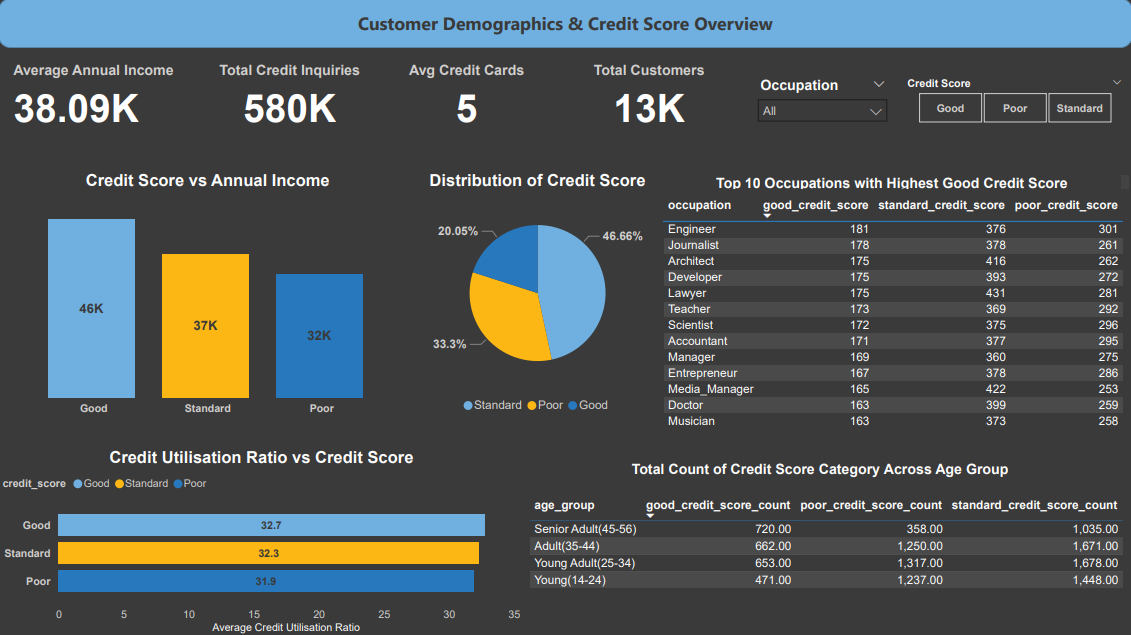

The page's visual inventory and layout, read from the dashboard file:
{"tool":"powerbi","page":{"name":"Customer Demographics & Credit Score Overview","canvas":[1280,720],"ordinal":0},"visuals":[{"type":"barChart","title":"Credit Utilisation Ratio vs Credit Score","fields":{"Category":["public credit_score_vs_utilisation.credit_score"],"Y":["Avg(public credit_score_vs_utilisation.avg_credit_utilization_ratio)"],"Series":["public credit_score_vs_utilisation.credit_score"]},"box":[0,507.2,594.4,213.6],"z":0},{"type":"shape","box":[0,0,1279.8,56.4],"z":1000},{"type":"columnChart","title":"Credit Score vs Annual Income","fields":{"Category":["public annual_income_vs_credit_score.credit_score"],"Y":["Avg(public annual_income_vs_credit_score.avg_annual_income)"],"Series":["public annual_income_vs_credit_score.credit_score"]},"box":[0,194.8,473.2,282.8],"z":2000},{"type":"tableEx","fields":{"Values":["public creditscore_vs_occupation.occupation","public creditscore_vs_occupation.good_credit_score","public creditscore_vs_occupation.standard_credit_score","public creditscore_vs_occupation.poor_credit_score"]},"box":[744.8,219.6,535,288.3],"z":3000},{"type":"textbox","box":[744.8,195.1,535,24.5],"z":4000},{"type":"tableEx","fields":{"Values":["public agegroup_vs_creditscore_count.age_group","Sum(public agegroup_vs_creditscore_count.good_credit_score_count)","Sum(public agegroup_vs_creditscore_count.poor_credit_score_count)","Sum(public agegroup_vs_creditscore_count.standard_credit_score_count)"]},"box":[594.4,558.3,685.3,144.3],"z":5000},{"type":"textbox","box":[593.9,516.6,685.9,41.7],"z":6000},{"type":"pieChart","title":"Distribution of Credit Score","fields":{"Category":["public customer_summary.credit_score"],"Y":["CountNonNull(public customer_summary.credit_score)"]},"box":[473.2,194.8,271.2,282.8],"z":7000},{"type":"slicer","fields":{"Values":["public annual_income_vs_credit_score.credit_score"]},"box":[1012.8,83.7,266.9,63.5],"z":8000},{"type":"cardVisual","fields":{"Data":["Avg(public annual_income_vs_credit_score.avg_annual_income)"]},"box":[0,56.3,220.7,90.9],"z":9000},{"type":"cardVisual","fields":{"Data":["Sum(public customer_summary.num_credit_inquiries)"]},"box":[220.7,56.3,216.4,90.9],"z":10000},{"type":"cardVisual","fields":{"Data":["Median(public customer_summary.num_credit_card)"]},"box":[415.5,56.3,225.1,90.9],"z":11000},{"type":"cardVisual","fields":{"Data":["public customer_summary.Total Customers"]},"box":[640.6,56.3,187.6,90.9],"z":12000},{"type":"slicer","fields":{"Values":["public customer_summary.occupation"]},"box":[846.9,83.7,165.9,63.5],"z":13000}]}

Visuals, with their boxes in screenshot pixels (x1, y1, x2, y2), scaled from the page's 1280x720 canvas onto the 1131x635 screenshot:
"Credit Utilisation Ratio vs Credit Score" barChart: left=0, top=447, right=525, bottom=634
shape: left=0, top=0, right=1130, bottom=50
"Credit Score vs Annual Income" columnChart: left=0, top=172, right=418, bottom=421
tableEx - public creditscore_vs_occupation.occupation x public creditscore_vs_occupation.good_credit_score: left=658, top=194, right=1130, bottom=448
textbox: left=658, top=172, right=1130, bottom=194
tableEx - public agegroup_vs_creditscore_count.age_group x Sum(public agegroup_vs_creditscore_count.good_credit_score_count): left=525, top=492, right=1130, bottom=620
textbox: left=525, top=456, right=1130, bottom=492
"Distribution of Credit Score" pieChart: left=418, top=172, right=658, bottom=421
slicer - public annual_income_vs_credit_score.credit_score: left=895, top=74, right=1130, bottom=130
cardVisual - Avg(public annual_income_vs_credit_score.avg_annual_income): left=0, top=50, right=195, bottom=130
cardVisual - Sum(public customer_summary.num_credit_inquiries): left=195, top=50, right=386, bottom=130
cardVisual - Median(public customer_summary.num_credit_card): left=367, top=50, right=566, bottom=130
cardVisual - public customer_summary.Total Customers: left=566, top=50, right=732, bottom=130
slicer - public customer_summary.occupation: left=748, top=74, right=895, bottom=130
